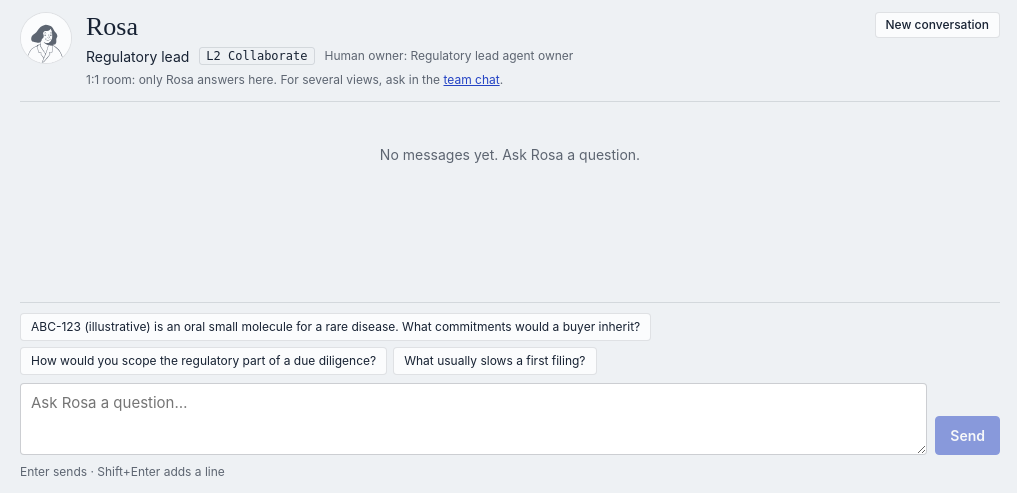
it: ChatRoom: the live demo’s prompts › Rosa’s empty room offers the walkthrough’s step 2 prompt first among her starters
Expected: the text box named "Message Rosa" is enabled, [20,383,927,455]
Click the button named "ABC-123 (illustrative) is an oral small molecule for a rare disease. What commitments would a buyer inherit?".
click(336, 327)  # box [20,313,651,341]
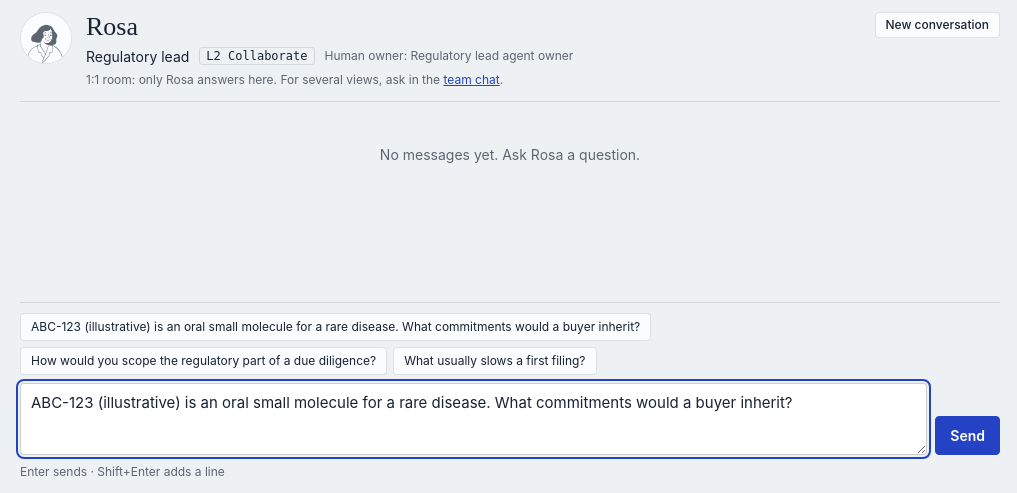
Expected: the text box named "Message Rosa" holds "ABC-123 (illustrative) is an oral small molecule for a rare disease. What commitments would a buyer inherit?", [20,383,927,455]
